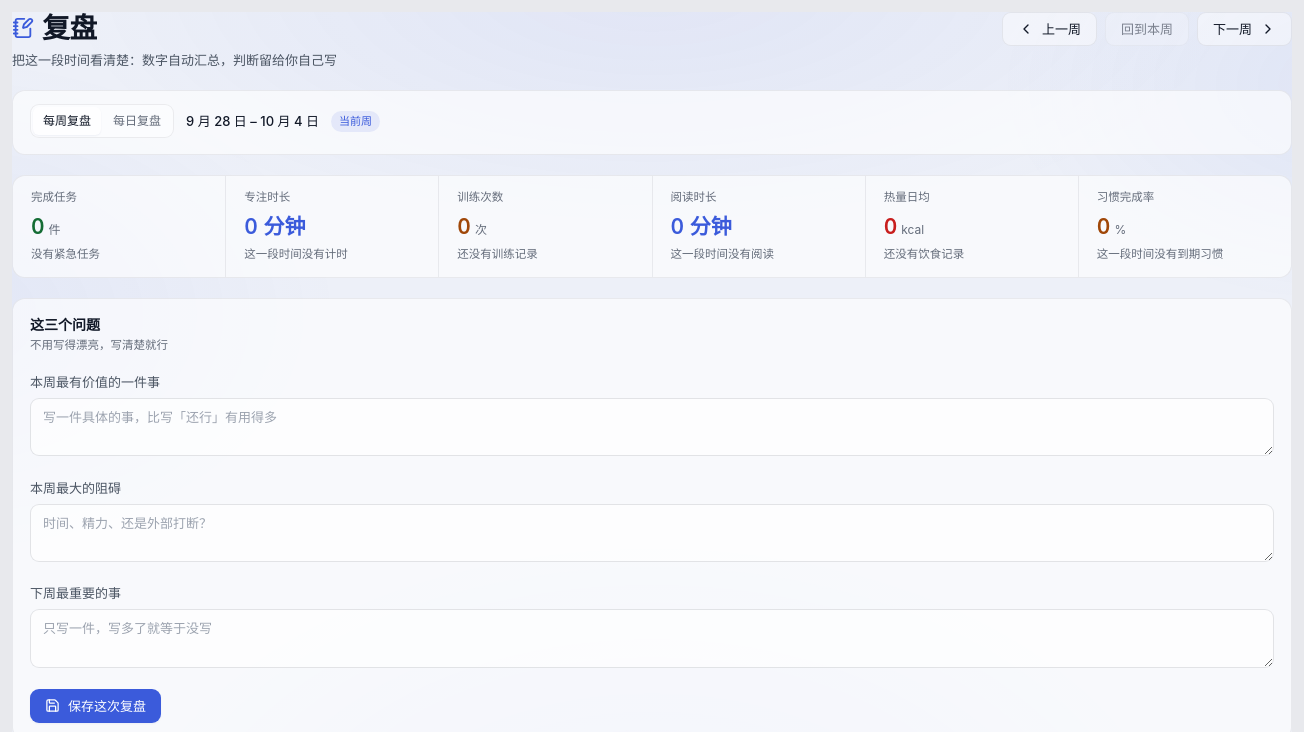
Test: ReviewPage 填写 › 切换周期时问题措辞跟着变
expect the text box labelled "本周最有价值的一件事" is shown: met, box [30,398,1274,456]
Click the button "每日复盘" at point(137, 121), box [103,107,171,135]
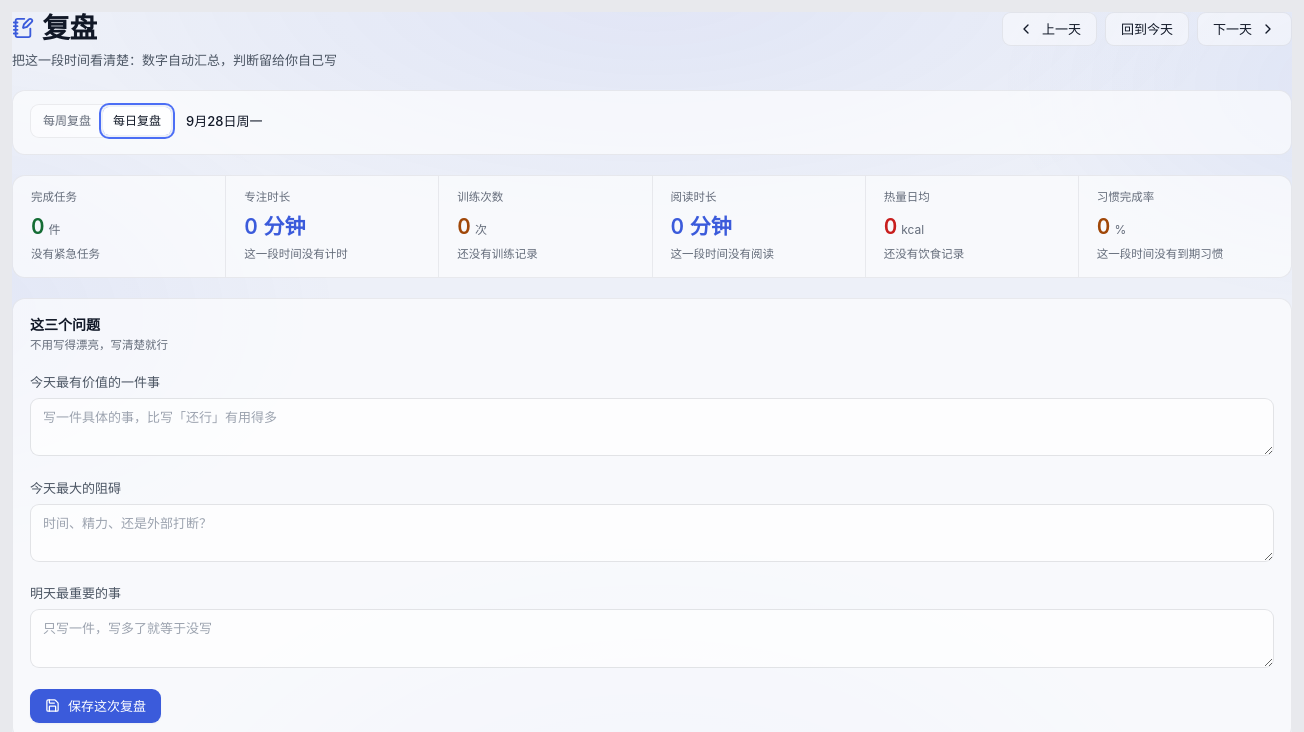
expect the text box labelled "今天最有价值的一件事" is shown: met, box [30,398,1274,456]
expect the button "回到今天" is shown: met, box [1105,12,1189,46]
